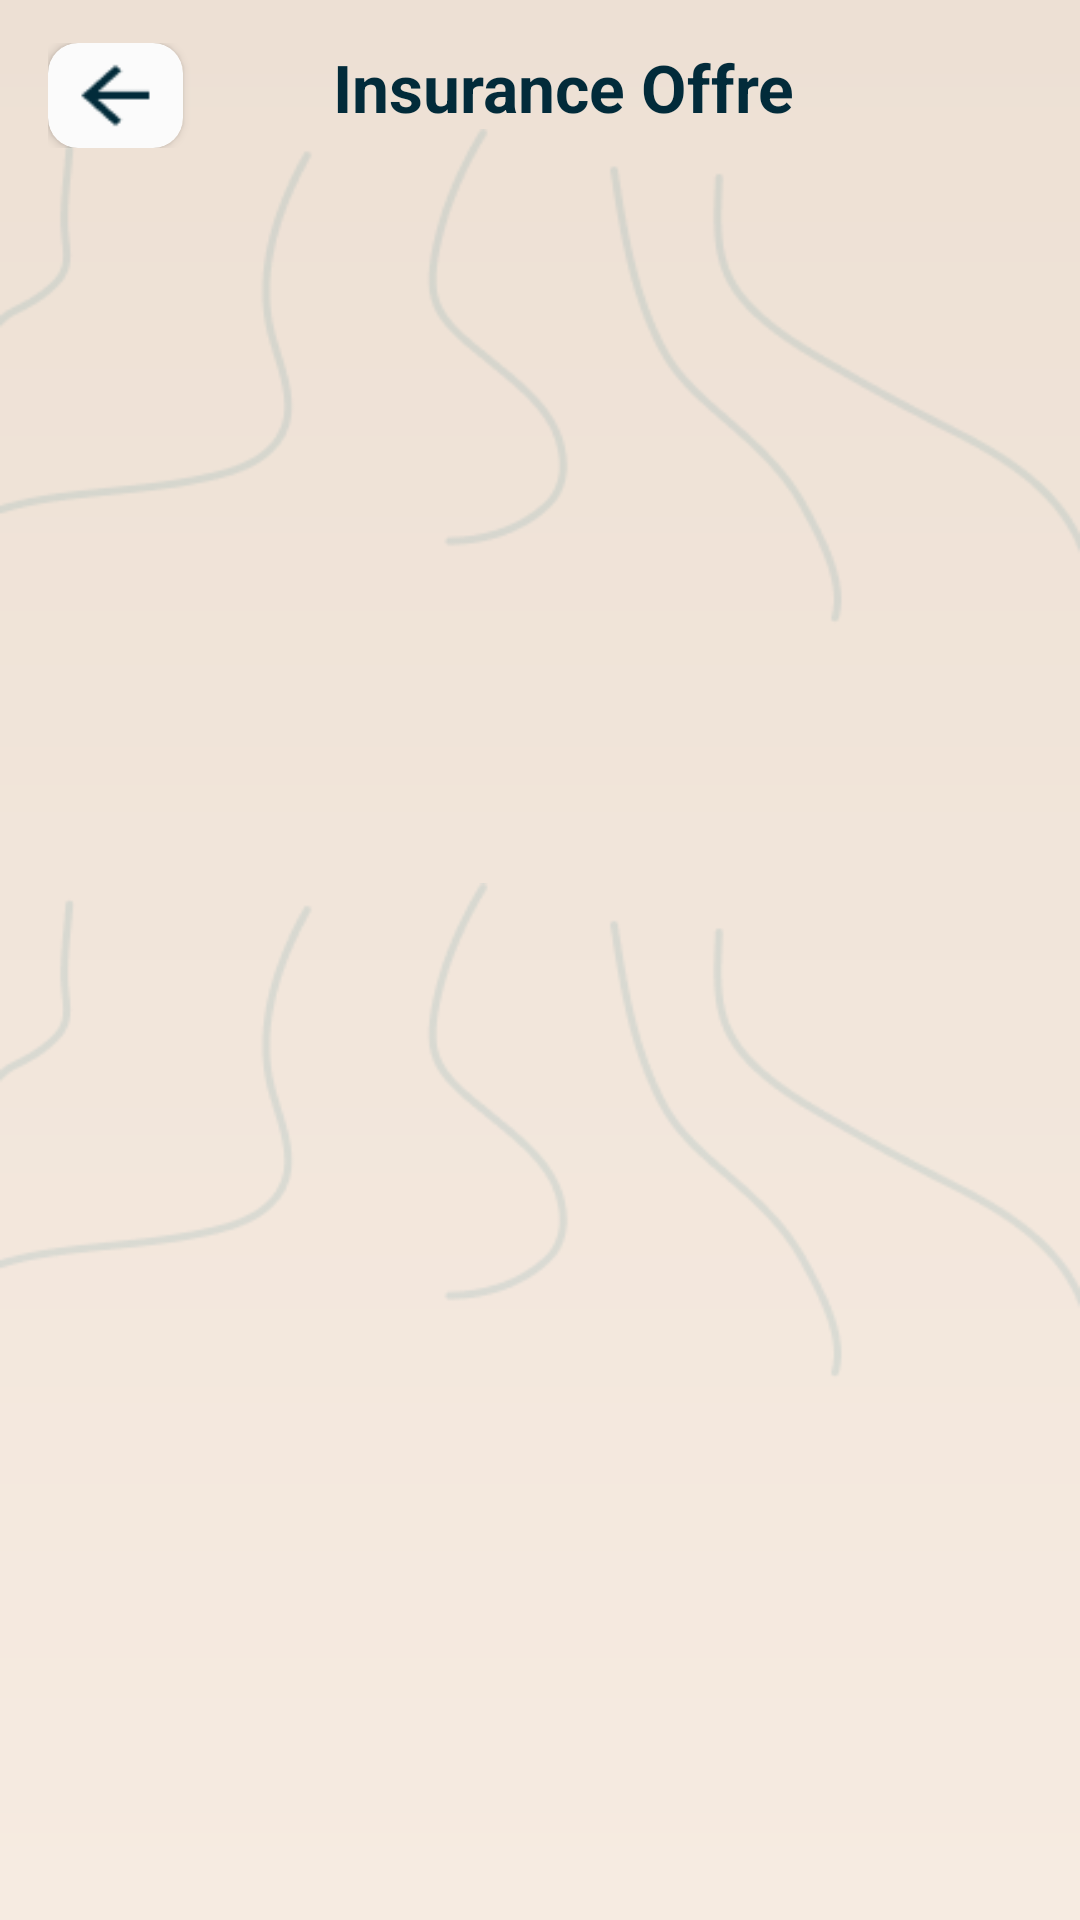

Named icons in this screenshot (1080w x 1920h) and their centers, (x,y):
arrow: (115,95)
